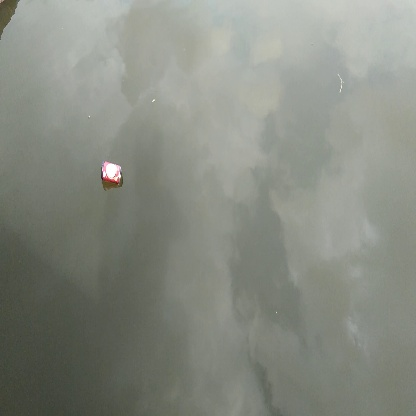bottle: (96, 158, 127, 188)
